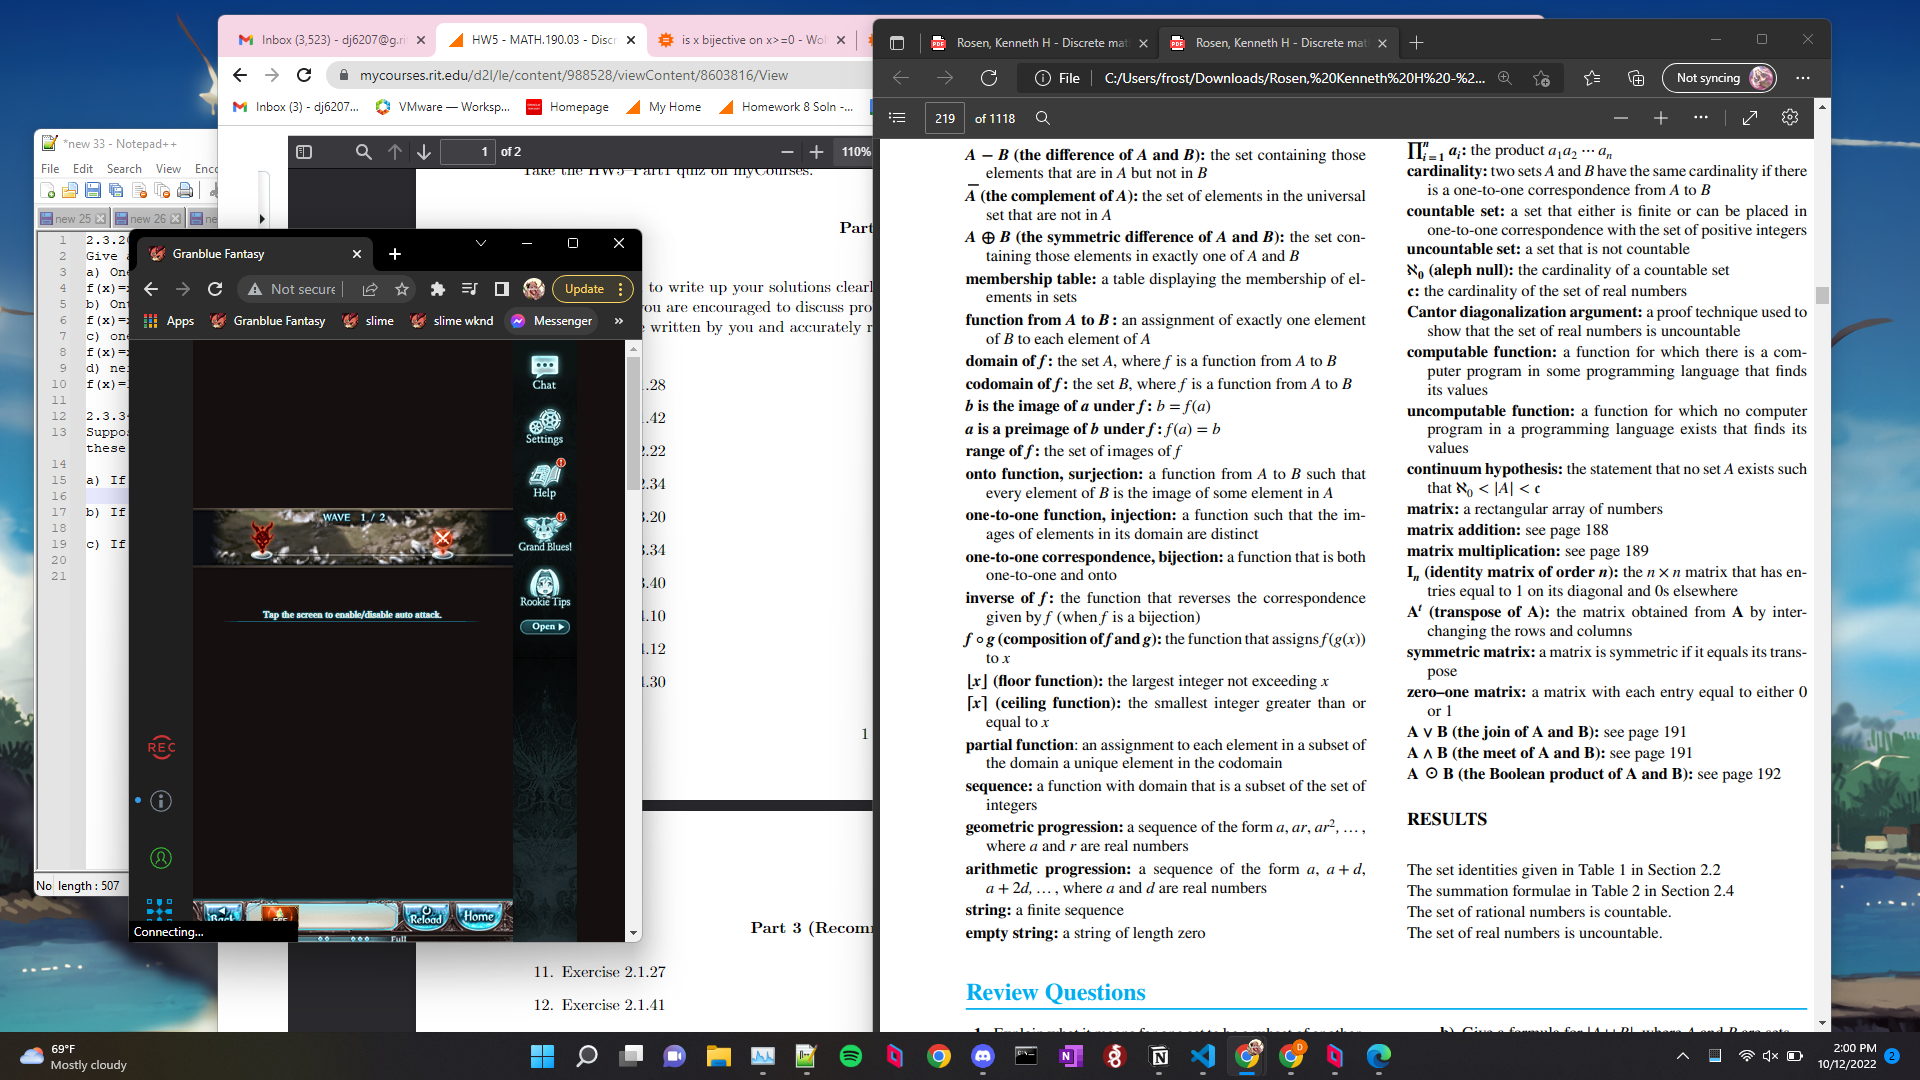Auto Button: (225, 597, 485, 638)
Back Button: (202, 903, 245, 920)
Browser: (131, 227, 641, 941)
Home Button: (456, 903, 502, 931)
Loading Screen: (193, 338, 515, 901)
Reload Button: (402, 903, 450, 928)
Wave 1/2: (304, 499, 402, 531)
